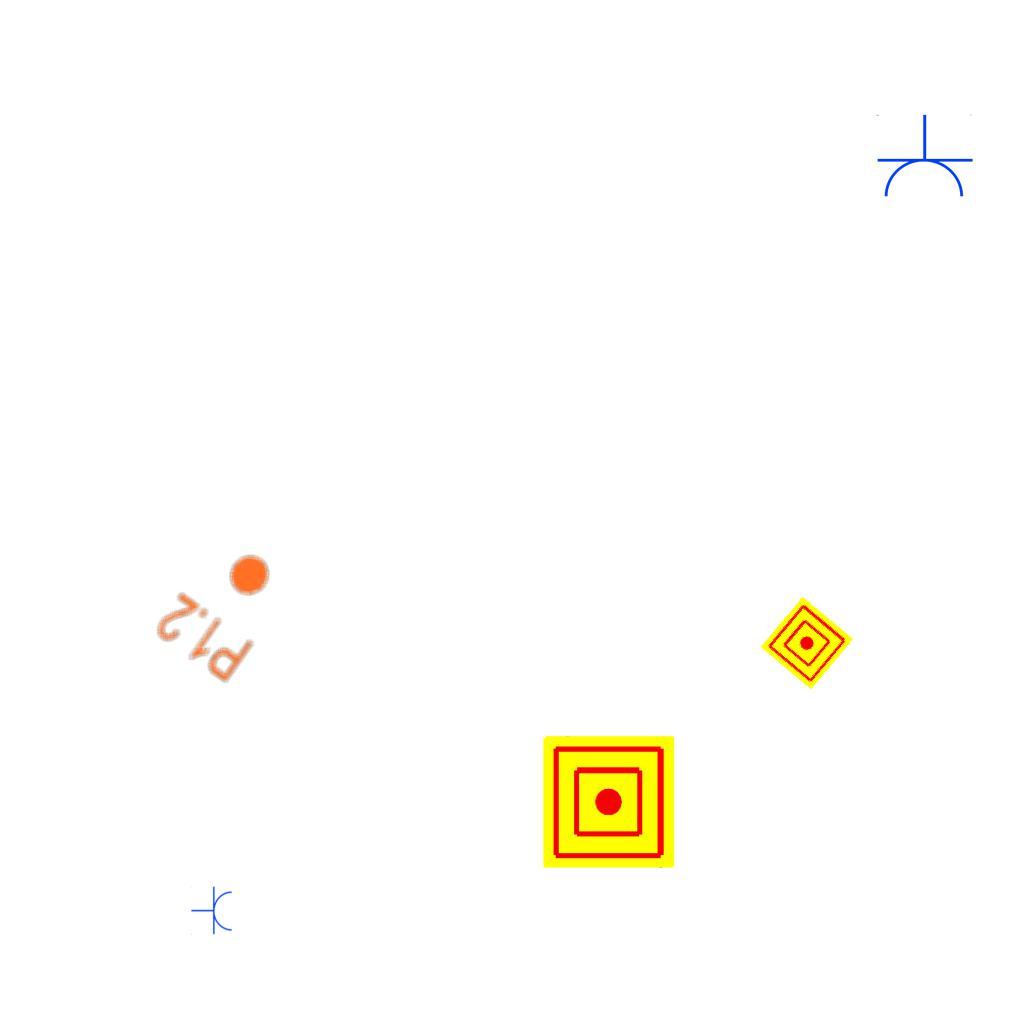Downlight_LED_Einbauleuchten_Flur: (149, 528, 300, 688)
NAM-Nichtautomatischer_Melder: (543, 736, 675, 868), (760, 596, 854, 690)
Schukosteckdose_einfach: (874, 114, 974, 201), (191, 886, 234, 936)
